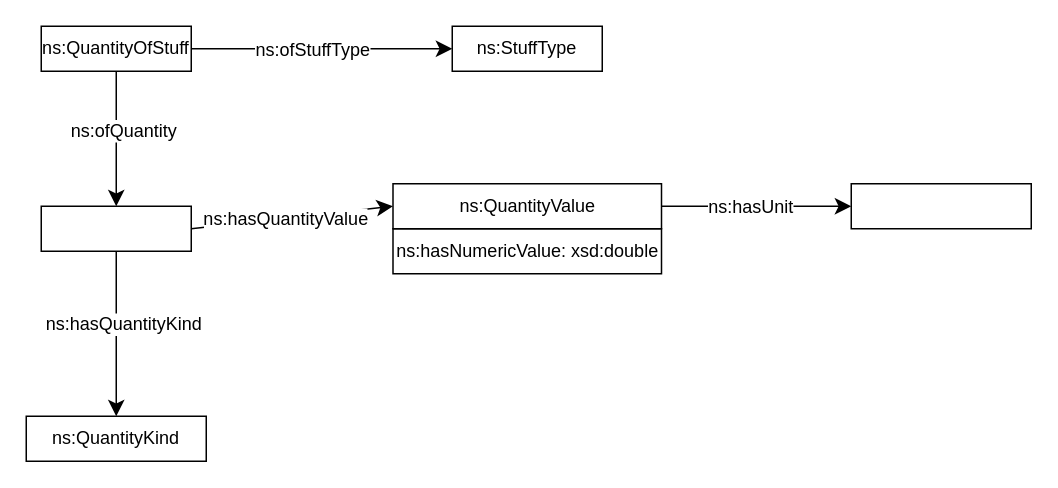
Image size: 1058x488. Some labels were removed from this diagram. Each missing label, with the centre of its shape:
"ns:Quantity" goes at point (115, 228).
"ns:Unit" goes at point (940, 205).
